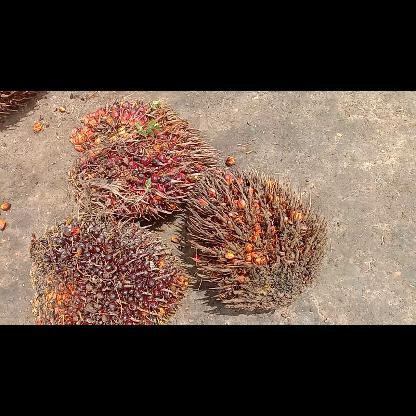Kurang masak: (27, 218, 189, 324)
TBS masak: (68, 99, 216, 223)
Terlalu masak: (184, 170, 326, 306)
